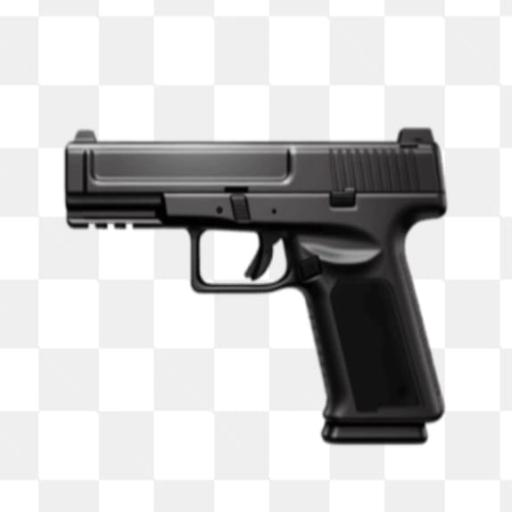Gun: (66, 129, 445, 441)
